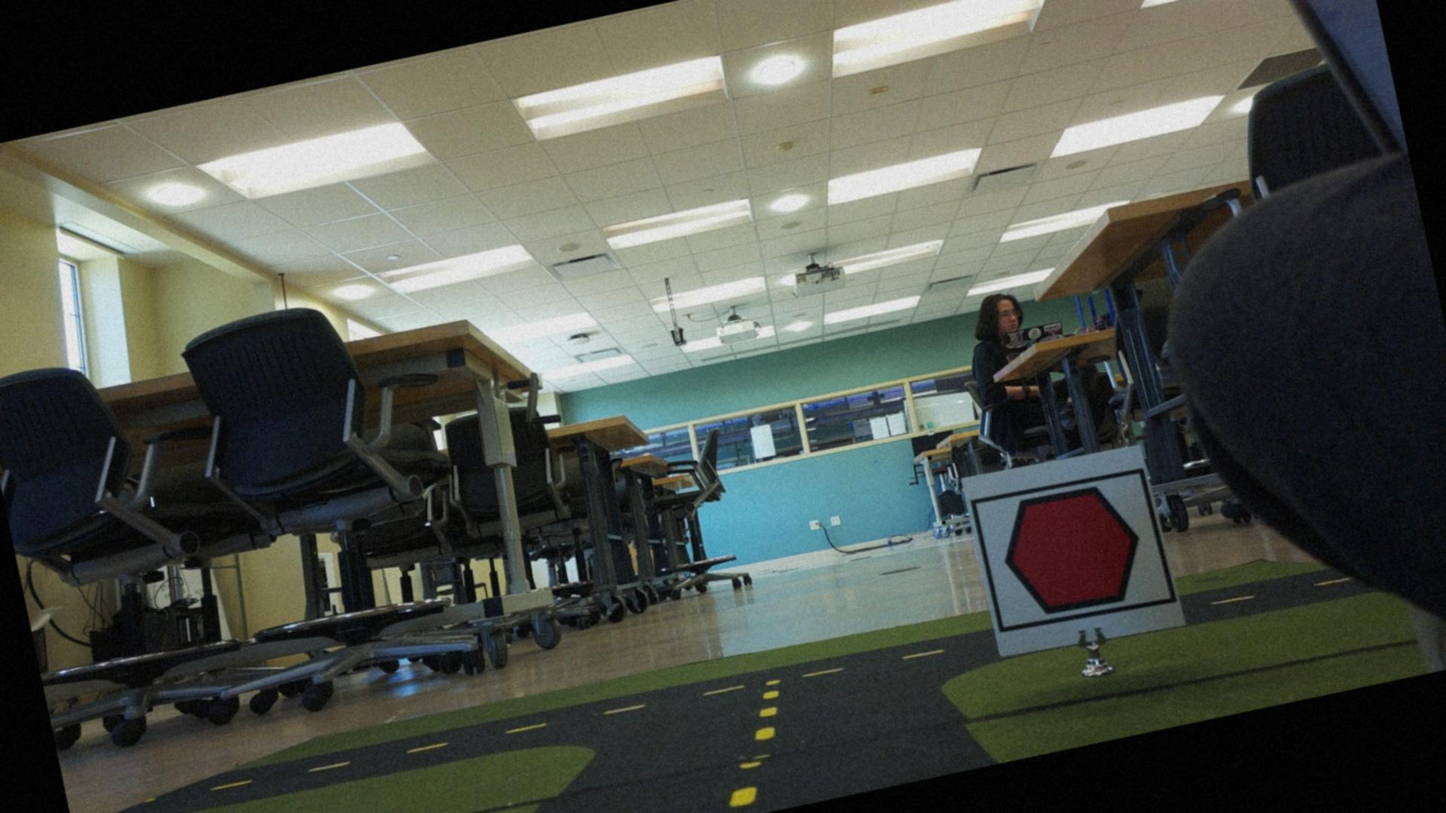stop: (979, 470, 1163, 629)
yellowline: (707, 679, 801, 812)
